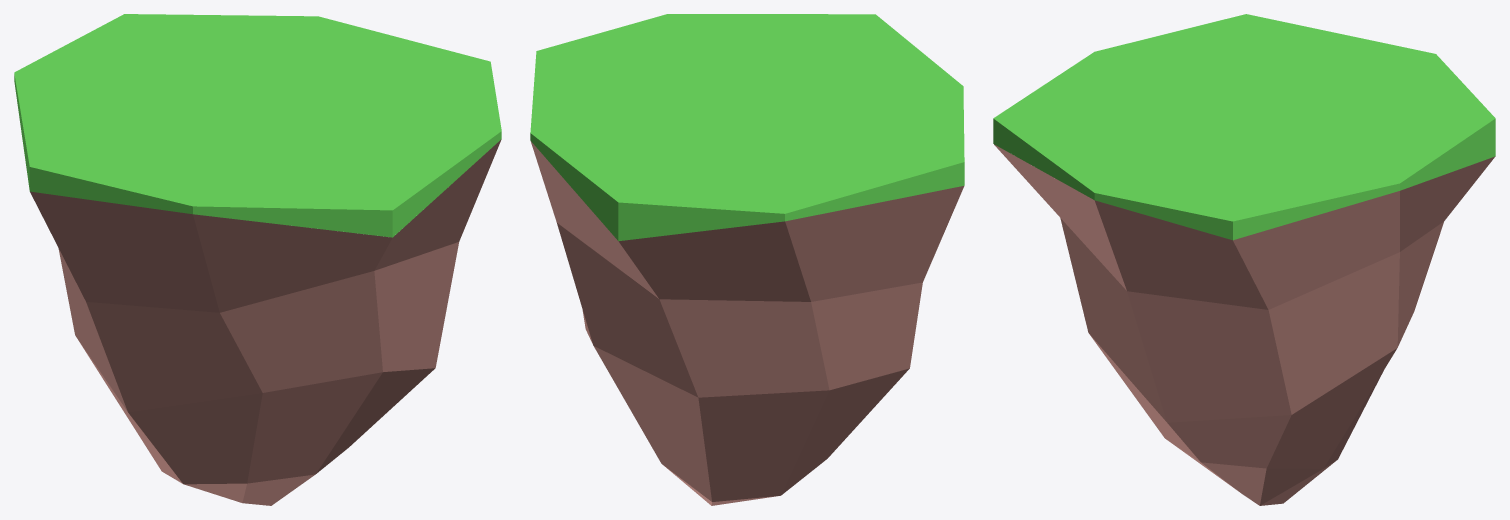
Rendered from island1-transformed.glb.
The picture shows the model from 3 angles, left to right: view 1: azimuth 30°, elevation 25°; view 2: azimuth 150°, elevation 25°; view 3: azimuth 270°, elevation 25°; orthographic projection. The views are drawn at different scales.
Parts seen in each view (by area): view 1: Island01_Cylinder; view 2: Island01_Cylinder; view 3: Island01_Cylinder.
Part boxes in pixels (x1,y1,x2,y2): Island01_Cylinder: (14,14,501,505); Island01_Cylinder: (530,14,964,505); Island01_Cylinder: (993,14,1495,505).
Size of the model in its own units: 0.8871 by 0.7544 by 0.9085.
